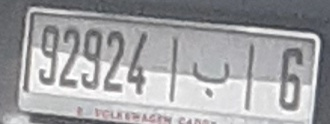2: (103, 28, 126, 93), (59, 28, 80, 89)
4: (126, 31, 147, 96)
6: (279, 46, 304, 113)
9: (79, 28, 104, 91), (37, 23, 59, 87)
b: (191, 59, 230, 99)
